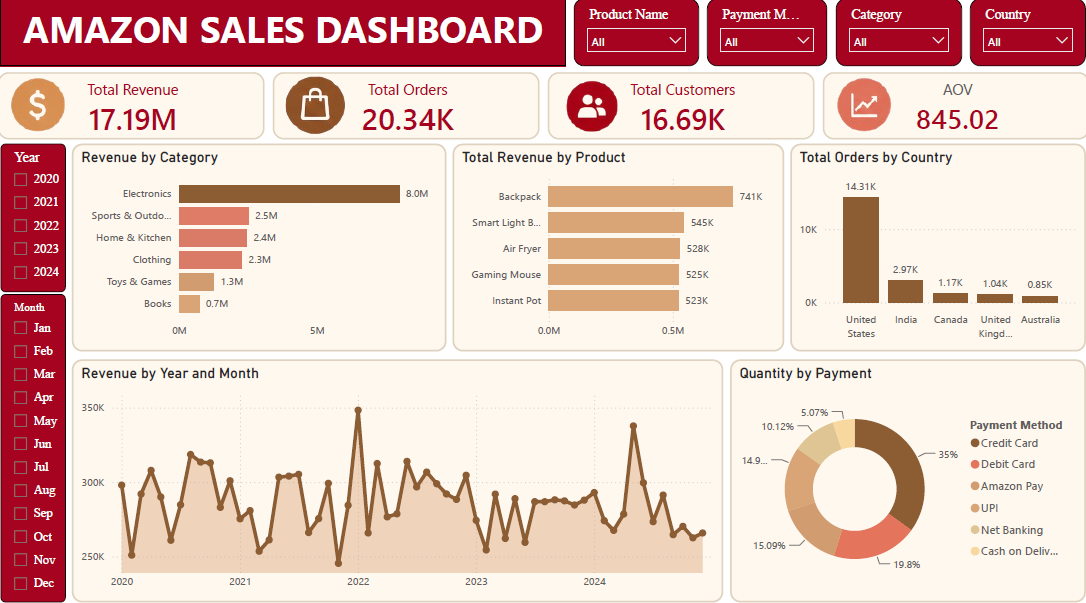

The page's visual inventory and layout, read from the dashboard file:
{"tool":"powerbi","page":{"name":"Page 1","canvas":[1280,720],"ordinal":0},"visuals":[{"type":"cardVisual","fields":{"Data":["amazon.Total Revenue"]},"box":[0,89.5,320.5,88.5],"z":0,"group":"g1"},{"type":"group","id":"g1","title":"Group 1","box":[0,8.7,1280,702.6],"z":1000},{"type":"lineChart","title":"Revenue by Year and Month","fields":{"Y":["amazon.Revenue Delivered"],"Category":["DateTable.YearMonthSort.Variation.Date Hierarchy.Year","DateTable.YearMonthSort.Variation.Date Hierarchy.Quarter","DateTable.YearMonthSort.Variation.Date Hierarchy.Month","DateTable.YearMonthSort.Variation.Date Hierarchy.Day"]},"box":[91.4,428.3,757.4,282.9],"z":1000,"group":"g1"},{"type":"barChart","fields":{"Category":["amazon.Category"],"Y":["amazon.Revenue"]},"box":[91.4,178.1,436,241.6],"z":2000,"group":"g1"},{"type":"columnChart","fields":{"Category":["amazon.Country"],"Y":["amazon.Total Delivered Orders"]},"box":[926.8,178.1,344.5,241.6],"z":3000,"group":"g1"},{"type":"barChart","title":"Total Revenue by Product","fields":{"Category":["amazon.ProductName"],"Y":["amazon.Total Revenue"]},"box":[534.1,178.1,385.9,241.6],"z":4000,"group":"g1"},{"type":"slicer","fields":{"Values":["amazon.Country"]},"box":[1135.6,8.7,135.7,78.9],"z":5000,"group":"g1"},{"type":"slicer","fields":{"Values":["amazon.ProductName"]},"box":[674.6,8.7,146.3,78.9],"z":6000,"group":"g1"},{"type":"slicer","fields":{"Values":["amazon.Category"]},"box":[979.7,8.7,147.2,78.9],"z":7000,"group":"g1"},{"type":"slicer","fields":{"Values":["amazon.PaymentMethod"]},"box":[829.6,8.7,140.5,78.9],"z":8000,"group":"g1"},{"type":"donutChart","title":"Quantity by Payment","fields":{"Y":["Sum(amazon.Quantity)"],"Category":["amazon.PaymentMethod"]},"box":[856.5,428.6,414.8,282.9],"z":9000,"group":"g1"},{"type":"slicer","fields":{"Values":["DateTable.Year"]},"box":[7.7,178.1,76,172.3],"z":10000,"group":"g1"},{"type":"slicer","fields":{"Values":["DateTable.Month"]},"box":[7.7,352.3,76,359],"z":11000,"group":"g1"},{"type":"textbox","box":[7.7,8.7,658.3,78.9],"z":12000,"group":"g1"},{"type":"cardVisual","fields":{"Data":["amazon.Total Orders"]},"box":[319.5,89.5,320.5,88.5],"z":13000,"group":"g1"},{"type":"cardVisual","fields":{"Data":["amazon.Total Customers"]},"box":[640,89.5,320.5,88.5],"z":14000,"group":"g1"},{"type":"cardVisual","fields":{"Data":["amazon.AOV"]},"box":[959.5,89.5,320.5,88.5],"z":15000,"group":"g1"},{"type":"image","box":[659.2,100.1,76,67.4],"z":16000,"group":"g1"},{"type":"image","box":[336.8,100.1,76,67.4],"z":17000,"group":"g1"},{"type":"image","box":[15.4,100.1,76,67.4],"z":18000,"group":"g1"},{"type":"image","box":[977.8,100.1,76,67.4],"z":19000,"group":"g1"}]}

Visuals, with their boxes in screenshot pixels (x1, y1, x2, y2), scaled from the page's 1280x720 canvas onto the 1086x603 screenshot:
cardVisual - amazon.Total Revenue: bbox(0, 75, 272, 149)
"Group 1" group: bbox(0, 7, 1085, 596)
"Revenue by Year and Month" lineChart: bbox(78, 359, 720, 596)
barChart - amazon.Category x amazon.Revenue: bbox(78, 149, 447, 351)
columnChart - amazon.Country x amazon.Total Delivered Orders: bbox(786, 149, 1079, 351)
"Total Revenue by Product" barChart: bbox(453, 149, 781, 351)
slicer - amazon.Country: bbox(963, 7, 1079, 73)
slicer - amazon.ProductName: bbox(572, 7, 696, 73)
slicer - amazon.Category: bbox(831, 7, 956, 73)
slicer - amazon.PaymentMethod: bbox(704, 7, 823, 73)
"Quantity by Payment" donutChart: bbox(727, 359, 1079, 596)
slicer - DateTable.Year: bbox(7, 149, 71, 293)
slicer - DateTable.Month: bbox(7, 295, 71, 596)
textbox: bbox(7, 7, 565, 73)
cardVisual - amazon.Total Orders: bbox(271, 75, 543, 149)
cardVisual - amazon.Total Customers: bbox(543, 75, 815, 149)
cardVisual - amazon.AOV: bbox(814, 75, 1085, 149)
image: bbox(559, 84, 624, 140)
image: bbox(286, 84, 350, 140)
image: bbox(13, 84, 78, 140)
image: bbox(830, 84, 894, 140)
